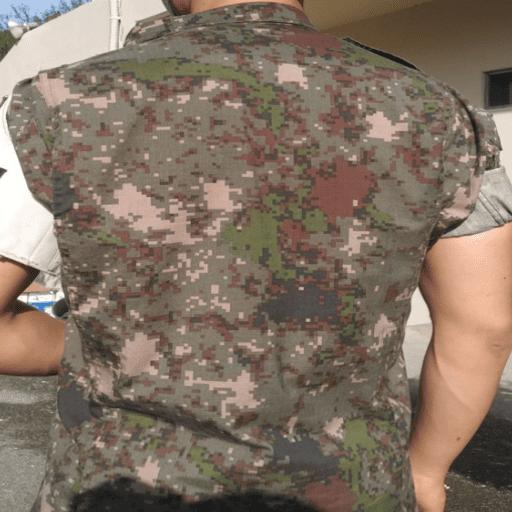korea army: (2, 0, 509, 510)
